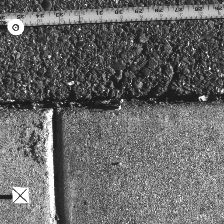circle: (6, 18, 24, 36)
crack: (1, 92, 223, 108)
square: (11, 187, 29, 203)
